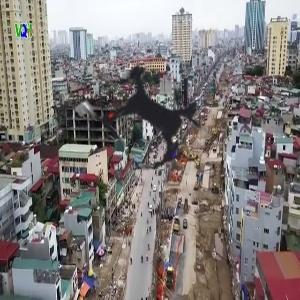drone: (47, 23, 242, 218)
